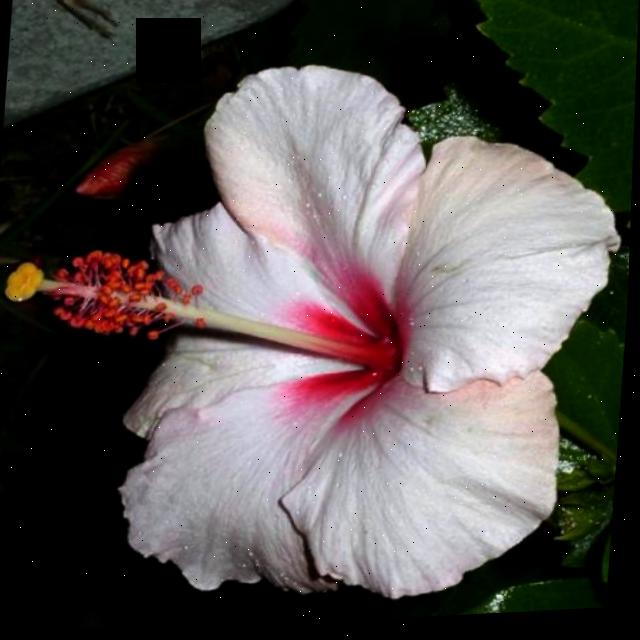hibiscus: (0, 25, 639, 640)
